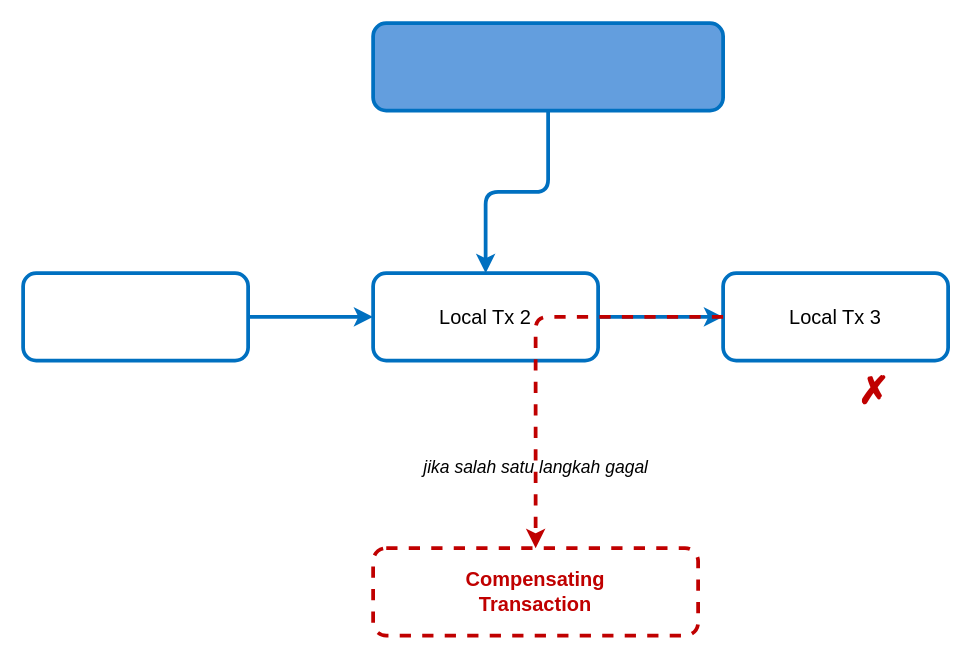
This 971x659 diagram has some shape labels left out. Here are the shapes that lost their labels. From the top down, the box of each, then its label:
(371, 21, 724, 112): Transaksi Global
(21, 271, 249, 362): Local Tx 1
